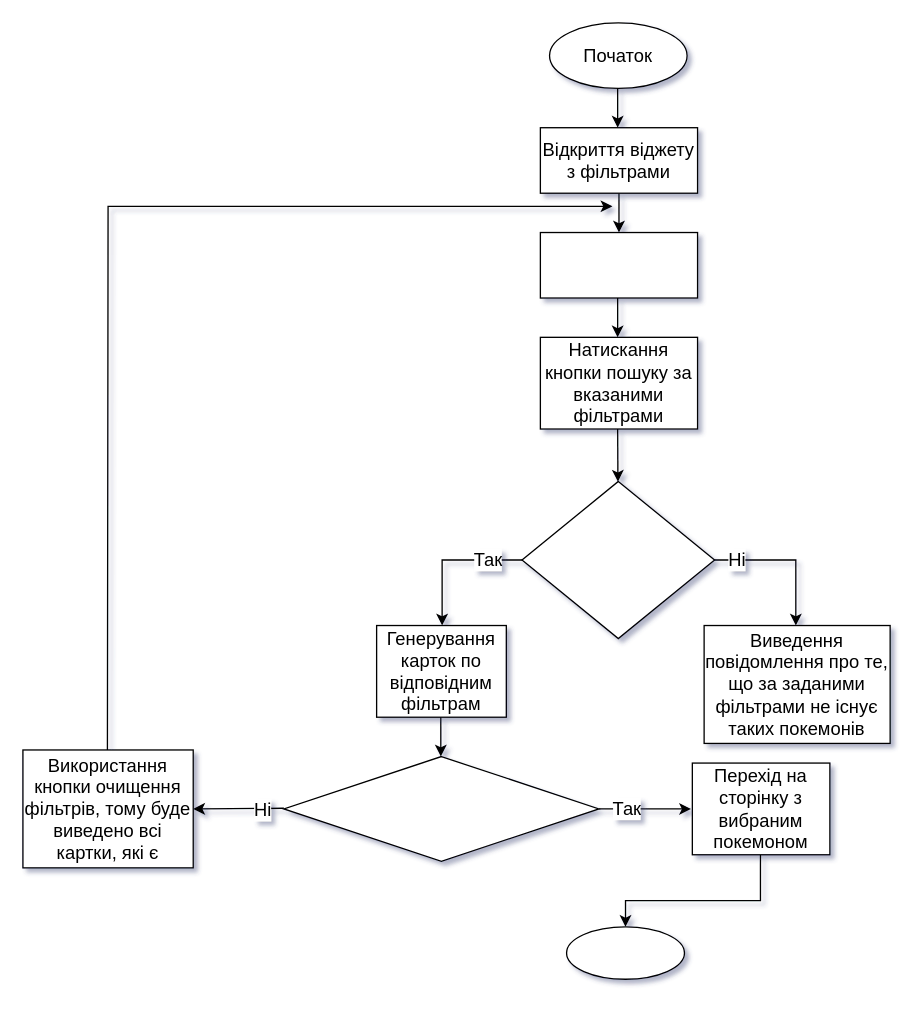
Some shapes in this 921 by 1010 pixel diagram are drawn without their labels. Each missing label, with the box of its shape:
Вибір параметрів фільтрування: (539, 231, 698, 298)
Знайшли бажаного покемона: (283, 755, 599, 861)
Кінець: (565, 926, 684, 979)
Покемони з заданими фільтрами існують: (521, 480, 715, 639)
